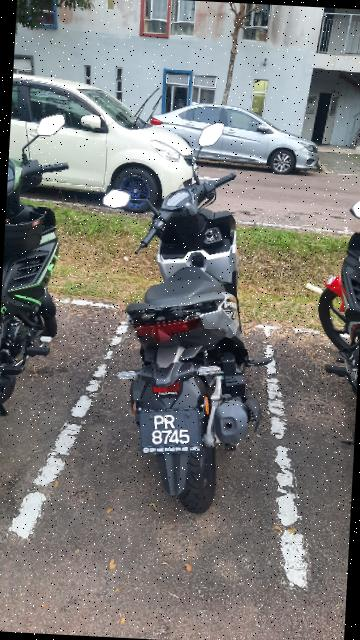License_Plate: (138, 402, 207, 461)
motorcycle: (85, 112, 295, 521)
